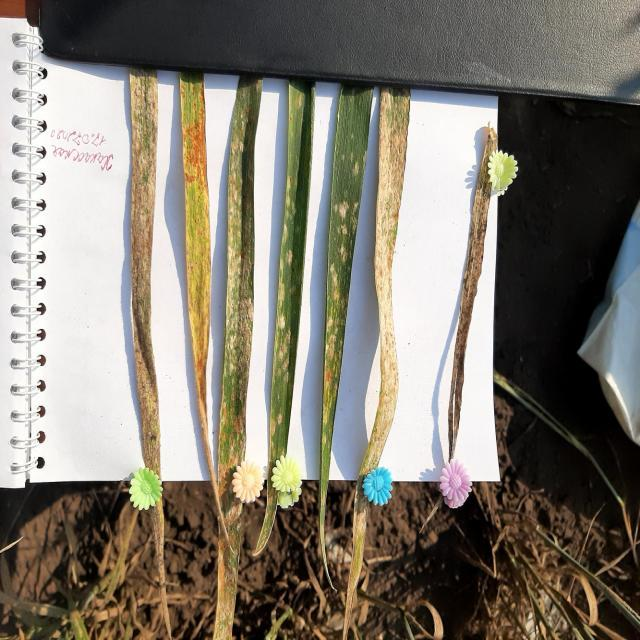wheat-powdery-mildew: (358, 90, 410, 482), (216, 79, 262, 515), (271, 85, 308, 469), (323, 183, 363, 448)
